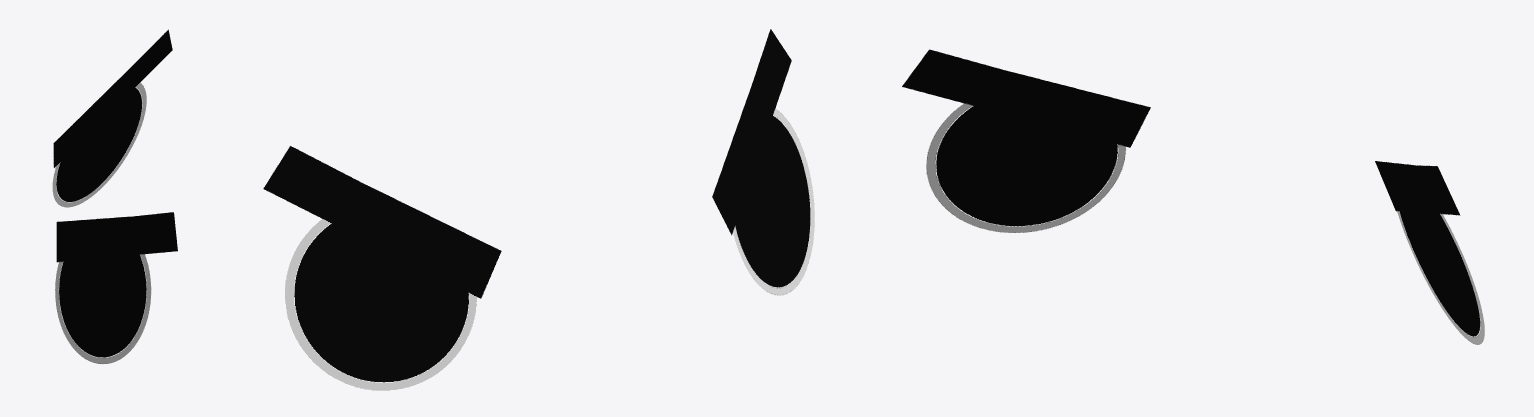
File: KangEye.fbx
The picture shows the model from 3 angles, left to right: view 1: azimuth 30°, elevation 25°; view 2: azimuth 150°, elevation 25°; view 3: azimuth 270°, elevation 25°; orthographic projection. The views are drawn at different scales.
Visible parts, largest first — view 1: Icosphere.008; view 2: Icosphere.008; view 3: Icosphere.008.
Part boxes in pixels (x1,y1,x2,y2): Icosphere.008: (52,29,177,364); Icosphere.008: (263,29,814,390); Icosphere.008: (902,49,1484,344).
Size of the model in its own units: 104 by 67.3 by 150.
